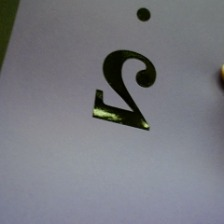violet2: (83, 6, 163, 134)
